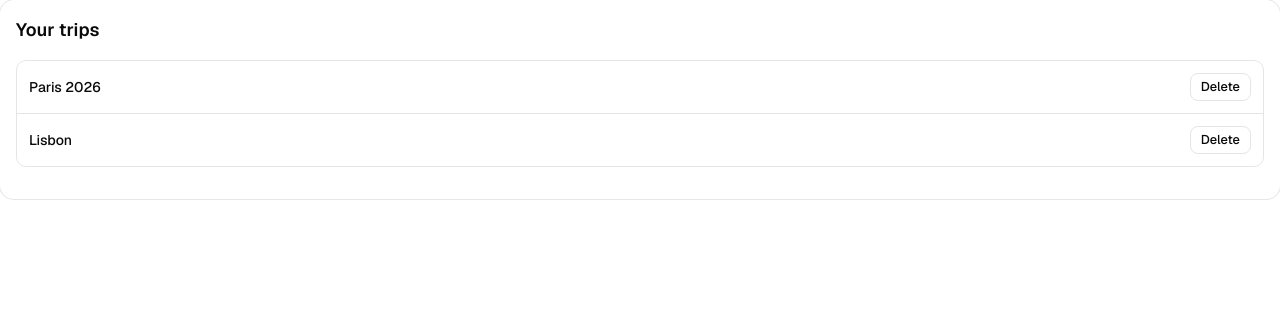
Scenario: TripList › F2.AC9 confirmed delete sends the trip ID, removes the row and announces "Trip deleted."
Step 1. Click the button with aria-label "Delete trip Lisbon" → (1220, 140), box [1190,126,1251,154]
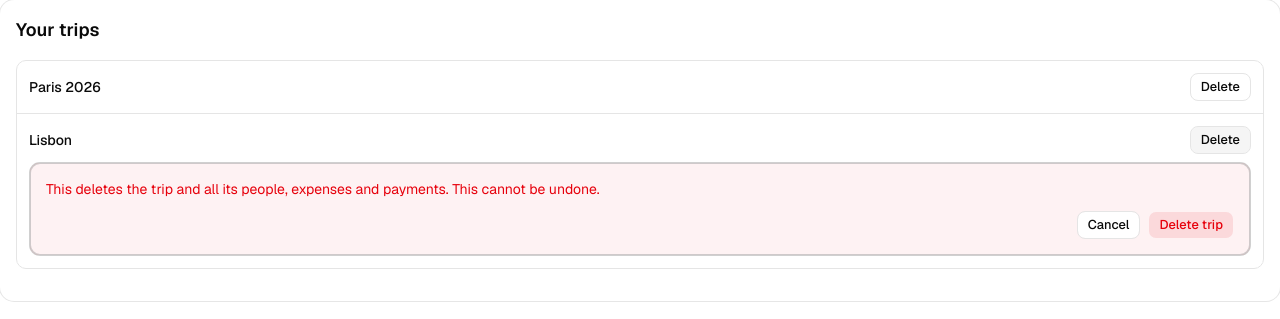
Step 2. Click the button "Delete trip" → (1191, 225), box [1148,211,1234,239]
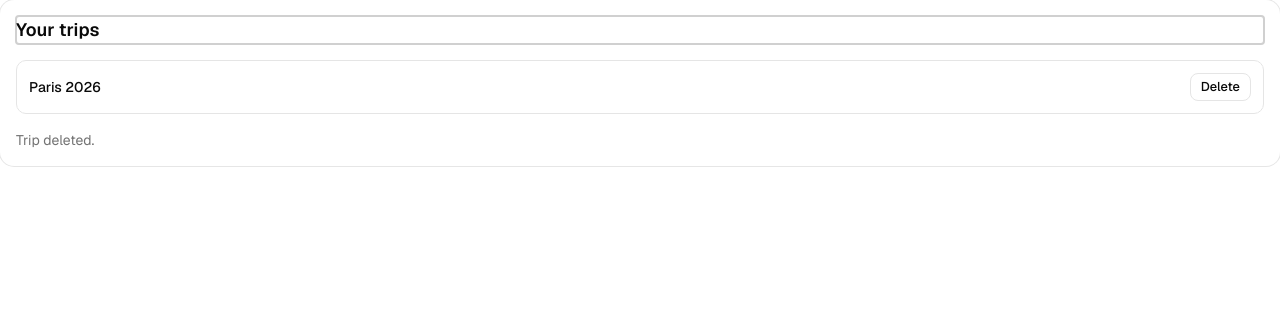
Expected: the link "Paris 2026" is shown, [29,77,101,97]
Now the link "Lisbon" is gone
Now the message reads "Trip deleted.", box [16,131,94,149]
